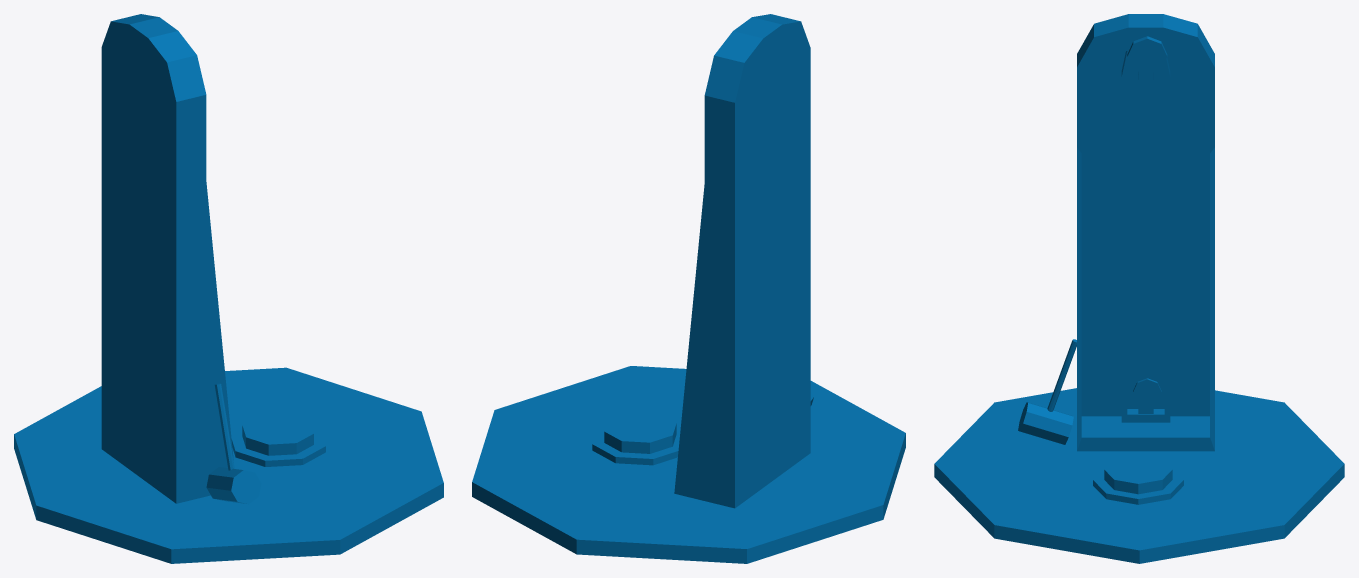
File: StrengthGame.fbx
3 views of the same model, side by side, from view 1: azimuth 30°, elevation 25°; view 2: azimuth 150°, elevation 25°; view 3: azimuth 270°, elevation 25° (orthographic). The views are drawn at different scales.
Visible parts, largest first — view 1: pCube42, pCylinder89, pCylinder90, Hammer; view 2: pCube42, pCylinder89, pCylinder90; view 3: pCube42, pCylinder89, pCylinder90, Hammer, pCylinder92, pCylinder91.
Part boxes in pixels (<box>): pCube42: <box>101,14,233,503</box>; pCylinder89: <box>14,367,443,563</box>; pCylinder90: <box>231,414,325,466</box>; Hammer: <box>206,383,261,504</box>; pCube42: <box>674,14,810,508</box>; pCylinder89: <box>472,366,905,563</box>; pCylinder90: <box>592,412,680,465</box>; pCube42: <box>1077,14,1214,451</box>; pCylinder89: <box>934,388,1344,563</box>; pCylinder90: <box>1093,455,1183,504</box>; Hammer: <box>1018,339,1076,444</box>; pCylinder92: <box>1127,36,1167,74</box>; pCylinder91: <box>1133,378,1161,405</box>.
Bounding box in the file's own units: 6.46 × 7.38 × 6.46.
